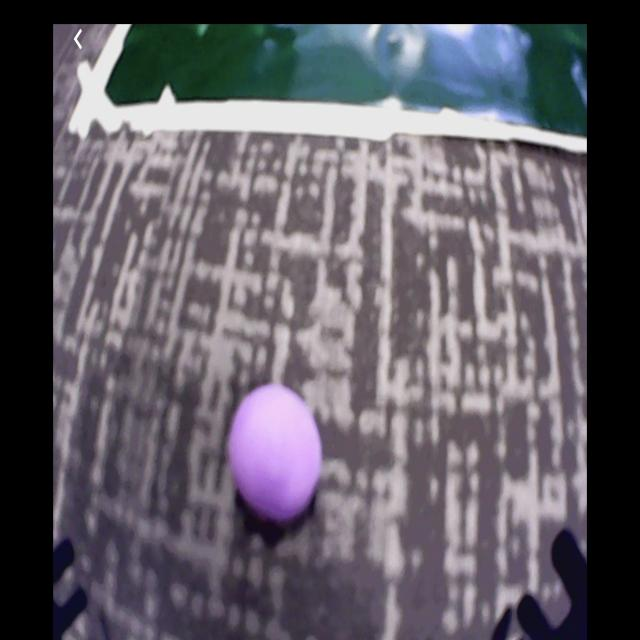ball: (234, 387, 322, 519)
